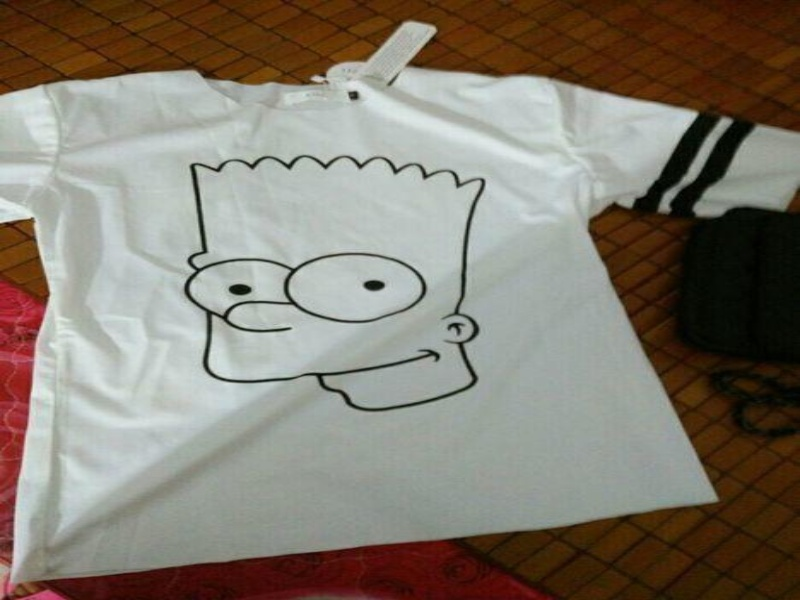short_sleeved_shirt: (2, 62, 798, 581)
